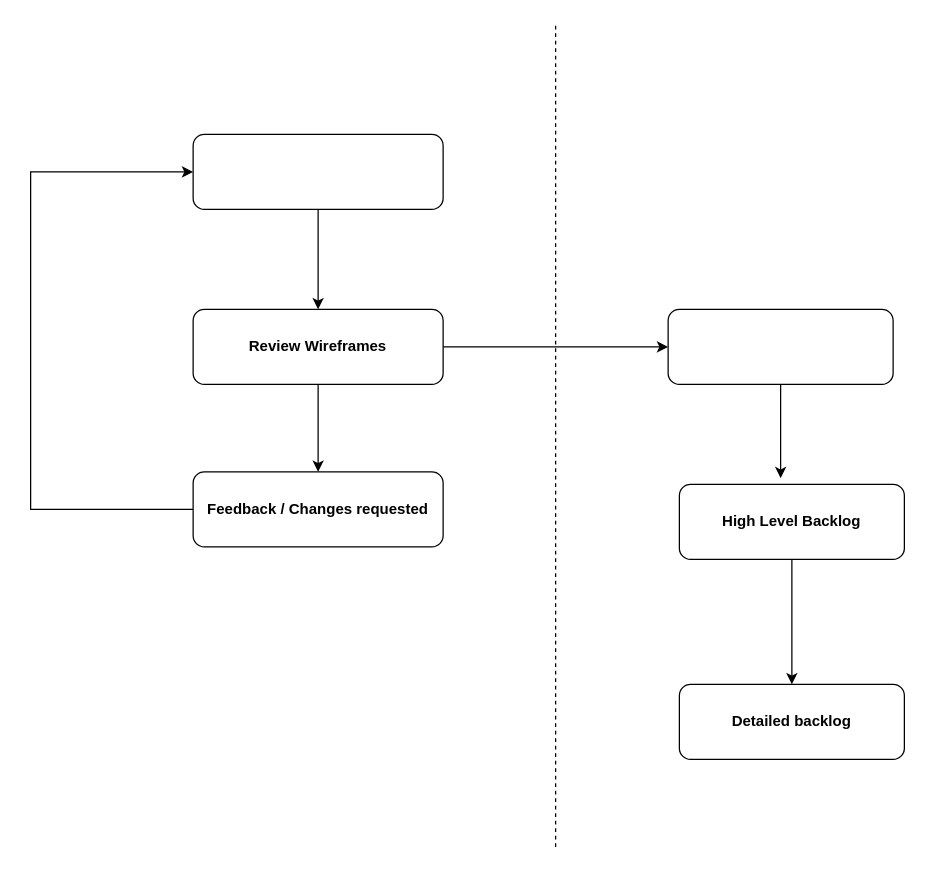
The diagram is 926 pixels wide and 870 high, and some of its shapes have lost their labels. Here are the shapes that lost their labels. From the top down, the centre of each, then its label:
At [317,171]: "UX / Wireframes changes".
At [780,346]: "Agreed Solutions".
